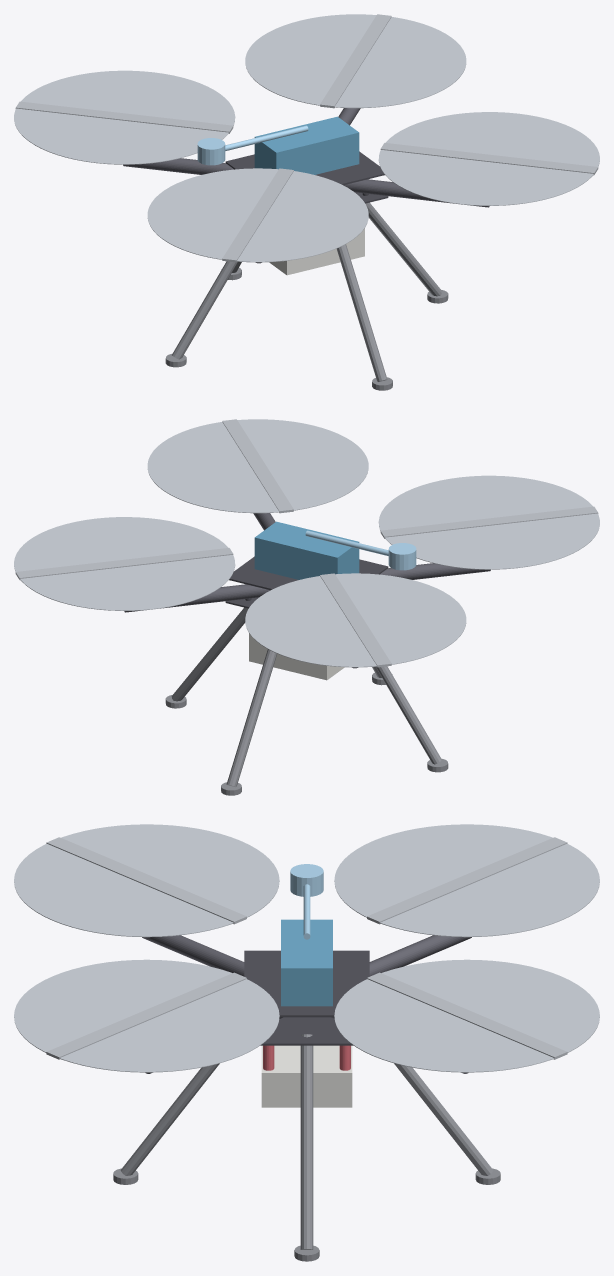
The model's file is agri_edge_airframe.glb.
3 renders of one model, top to bottom at view 1: azimuth 30°, elevation 25°; view 2: azimuth 150°, elevation 25°; view 3: azimuth 270°, elevation 25°, orthographic. The views are drawn at different scales.
Visible parts, largest first — view 1: Disc.3, Disc.1, Disc.4, Disc.2, Battery.6S10Ah, Leg.3, Plate.Top, Enclosure, Leg.2, Leg.4, Arm.2, Arm.4 (+10 smaller); view 2: Disc.2, Disc.4, Disc.1, Disc.3, Battery.6S10Ah, Leg.1, Plate.Top, Enclosure, Leg.2, Leg.4, Arm.3, Arm.1 (+10 smaller); view 3: Disc.2, Disc.3, Disc.1, Disc.4, Enclosure, Battery.6S10Ah, Plate.Top, Leg.4, Plate.Bottom, Leg.1, Leg.3, Arm.2 (+10 smaller).
Boxes of the visible parts, left/top/right/bottom form: Disc.3: left=147, top=168, right=368, bottom=262; Disc.1: left=245, top=14, right=466, bottom=108; Disc.4: left=378, top=112, right=599, bottom=205; Disc.2: left=14, top=70, right=235, bottom=164; Battery.6S10Ah: left=254, top=116, right=359, bottom=174; Leg.3: left=337, top=244, right=387, bottom=381; Plate.Top: left=225, top=151, right=384, bottom=185; Enclosure: left=269, top=228, right=364, bottom=275; Leg.2: left=172, top=261, right=237, bottom=359; Leg.4: left=365, top=202, right=442, bottom=296; Arm.2: left=123, top=158, right=233, bottom=174; Arm.4: left=343, top=179, right=489, bottom=207; Disc.2: left=245, top=573, right=466, bottom=667; Disc.4: left=147, top=419, right=368, bottom=513; Disc.1: left=14, top=517, right=235, bottom=610; Disc.3: left=378, top=475, right=599, bottom=569; Battery.6S10Ah: left=254, top=521, right=359, bottom=579; Leg.1: left=226, top=649, right=276, bottom=786; Plate.Top: left=229, top=556, right=388, bottom=590; Enclosure: left=249, top=633, right=344, bottom=680; Leg.2: left=376, top=666, right=441, bottom=764; Leg.4: left=171, top=607, right=248, bottom=701; Arm.3: left=380, top=563, right=490, bottom=579; Arm.1: left=124, top=584, right=270, bottom=612; Disc.2: left=334, top=824, right=599, bottom=937; Disc.3: left=14, top=824, right=279, bottom=937; Disc.1: left=334, top=959, right=599, bottom=1072; Disc.4: left=14, top=959, right=279, bottom=1072; Enclosure: left=261, top=1045, right=352, bottom=1107; Battery.6S10Ah: left=281, top=919, right=332, bottom=1006; Plate.Top: left=244, top=950, right=369, bottom=1017; Leg.4: left=300, top=1034, right=313, bottom=1249; Plate.Bottom: left=260, top=1017, right=353, bottom=1045; Leg.1: left=394, top=1063, right=493, bottom=1175; Leg.3: left=120, top=1063, right=219, bottom=1175; Arm.2: left=369, top=935, right=471, bottom=976.
Size of the model in its own units: 0.8406 by 0.4 by 0.8406.
